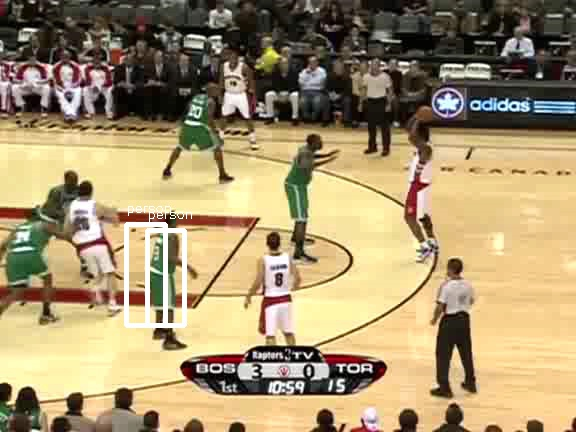person: (148, 232, 182, 313), (147, 232, 181, 313), (149, 232, 183, 313), (148, 231, 182, 312), (148, 233, 182, 314)
target_negative: (143, 266, 552, 407), (422, 342, 557, 407), (302, 411, 507, 428), (75, 351, 216, 371), (190, 358, 237, 368), (272, 235, 319, 243)
